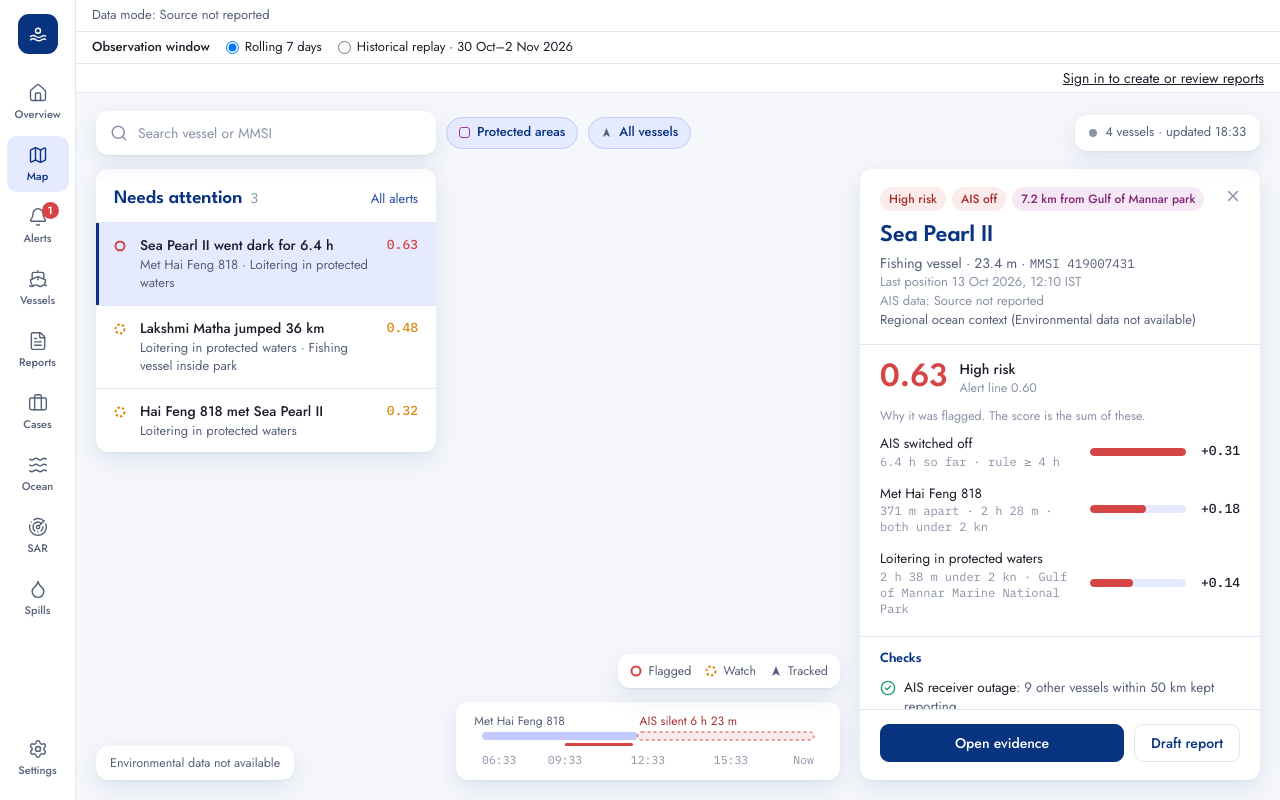
map page › does not carry a failed draft report over to the next vessel
The width and height of the screenshot is (1280, 800).
Click the button "Draft report". click: (1187, 743)
box: [1134,724,1240,762]
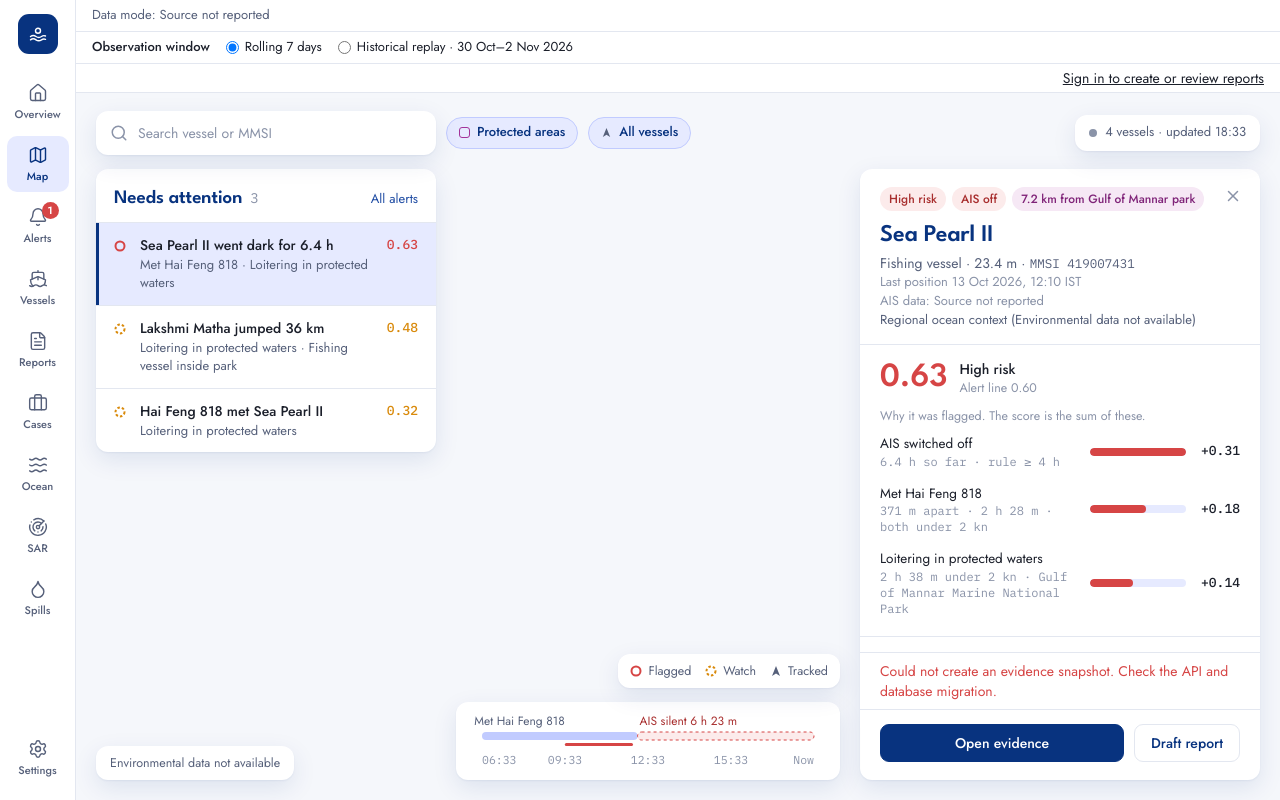
Check: the message "Could not create an evidence snapshot. Check the API and database migration." is shown, box [860,652,1260,709]
Click the text "Lakshmi Matha jumped 36 km". click: (232, 328)
box: [140,318,324,338]
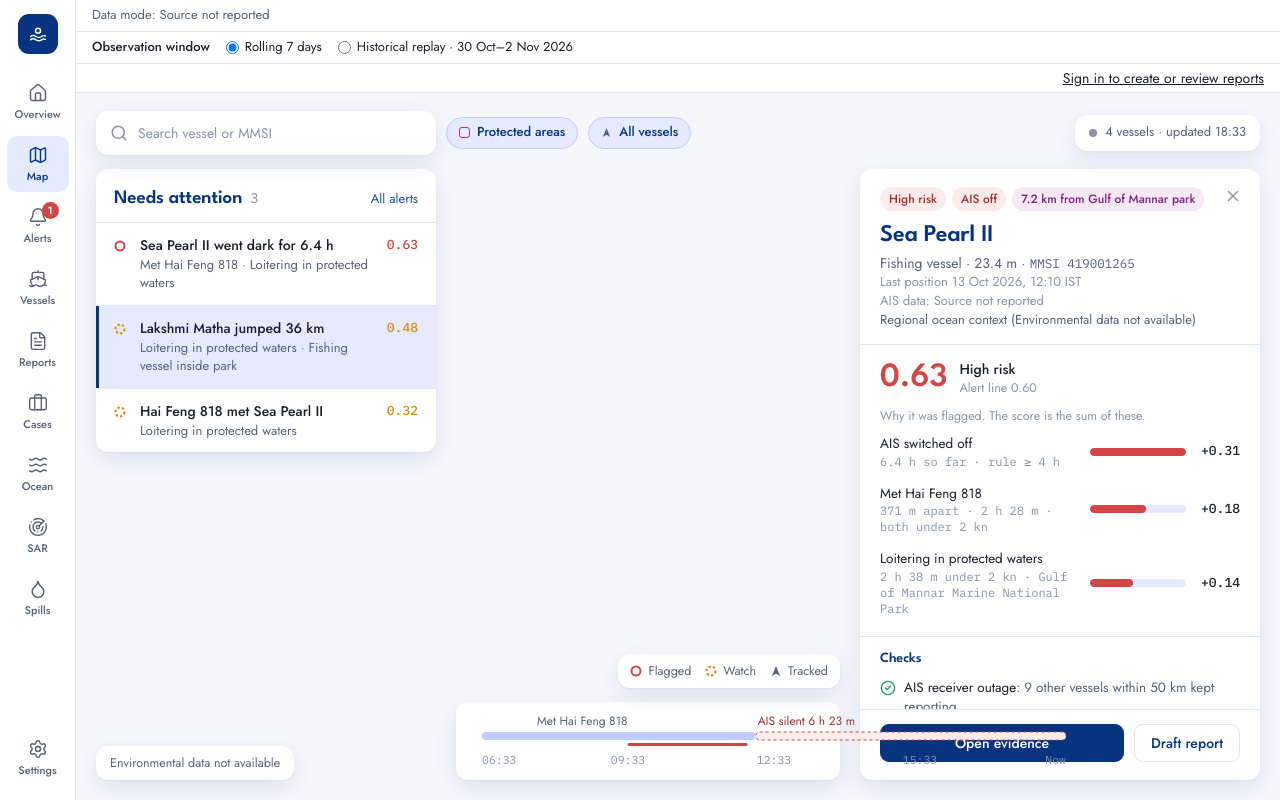
Check: the text "Could not create an evidence snapshot" is gone
